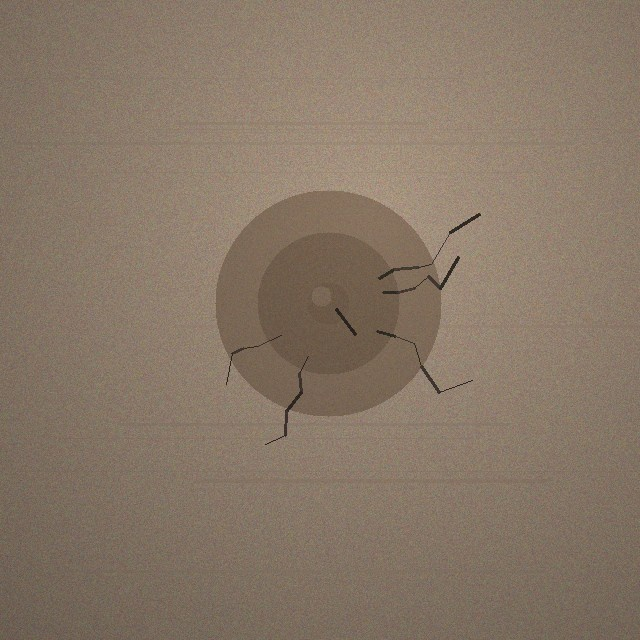crack: (215, 190, 441, 416)
